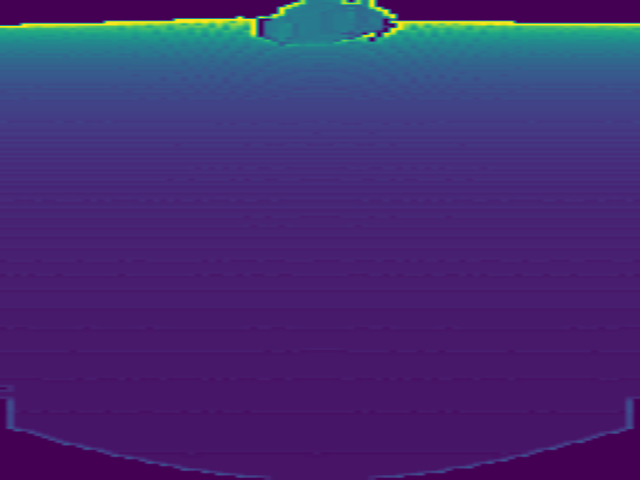car_0027: (256, 1, 397, 48)
